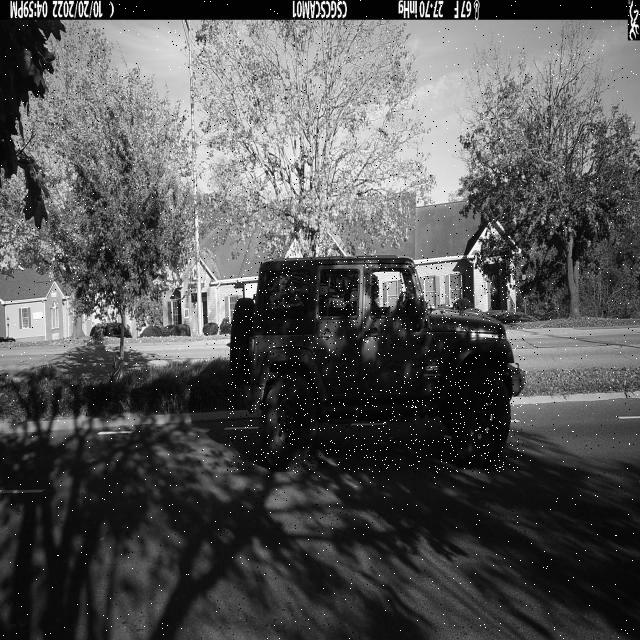SUV: (227, 256, 525, 473)
